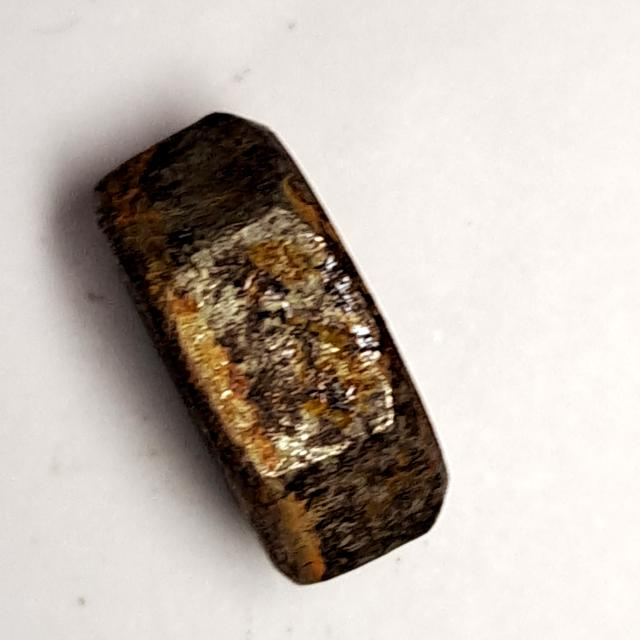Side_Rust: (72, 96, 465, 600)
